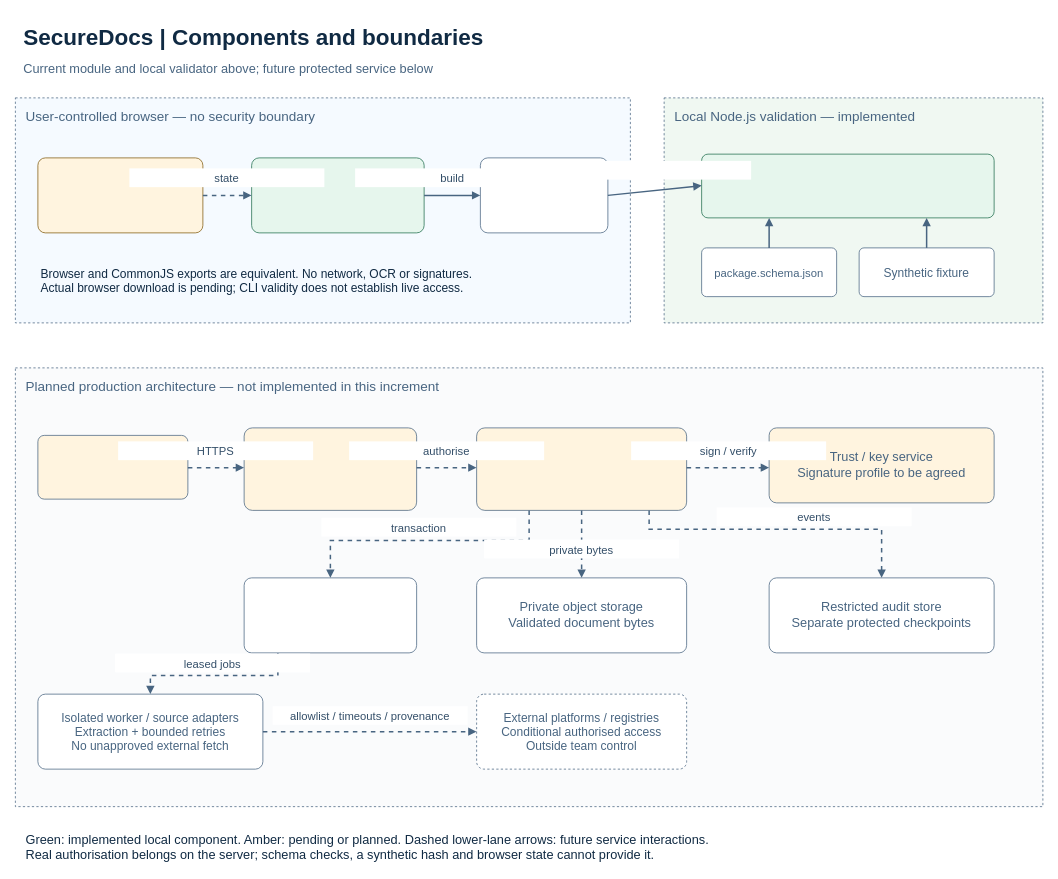
Image size: 1058x879. Some labels were removed from this diagram. The shapes that lost their labels are listed below. From the top down, each one's centre as x and y in pixels, then its label:
At point (653, 169): "local file".
At point (847, 185): "validate-manifest.cjs Ajv 2020-12 + semantic invariants".
At point (120, 195): "UI + workflow model Planned index / app / model".
At point (337, 195): "manifest.js Pure builder: implemented Explicit role + now".
At point (544, 195): "JSON manifest Schema 1.0 Synthetic ISP".
At point (112, 467): "Web UI Authenticated requests".
At point (330, 468): "API / access control User + tenant + object Recheck each action".
At point (581, 468): "Package / workflow / export Immutable versions + decisions Atomic grant / outbox".
At point (330, 615): "PostgreSQL Metadata / grants / jobs Transactional constraints".
